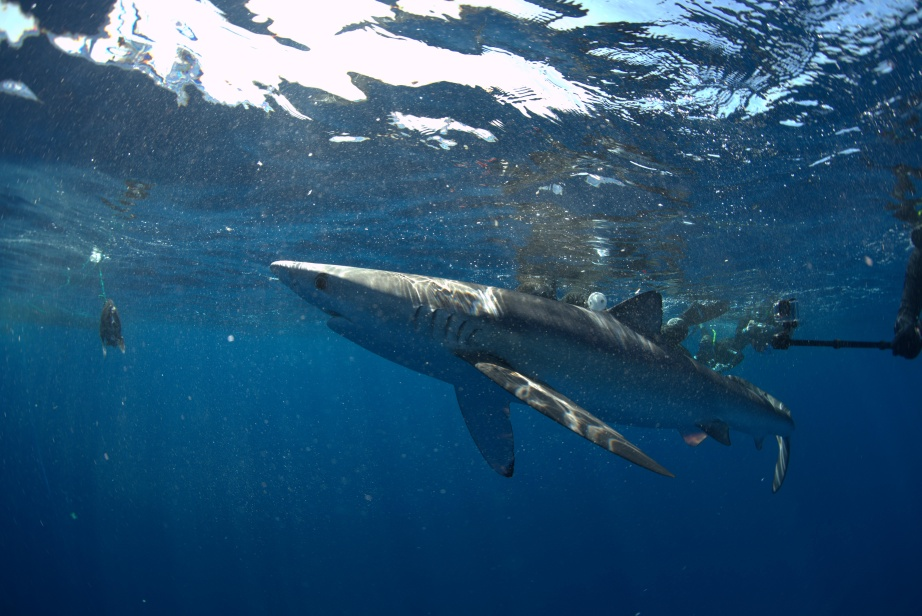Azul: (241, 212, 812, 501)
